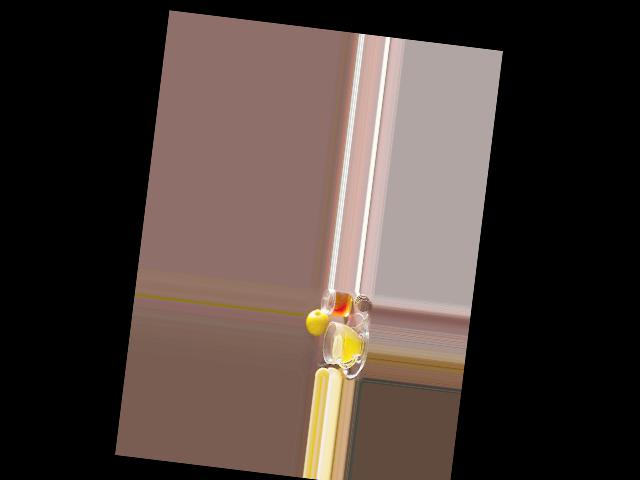lemon: (303, 306, 331, 340)
